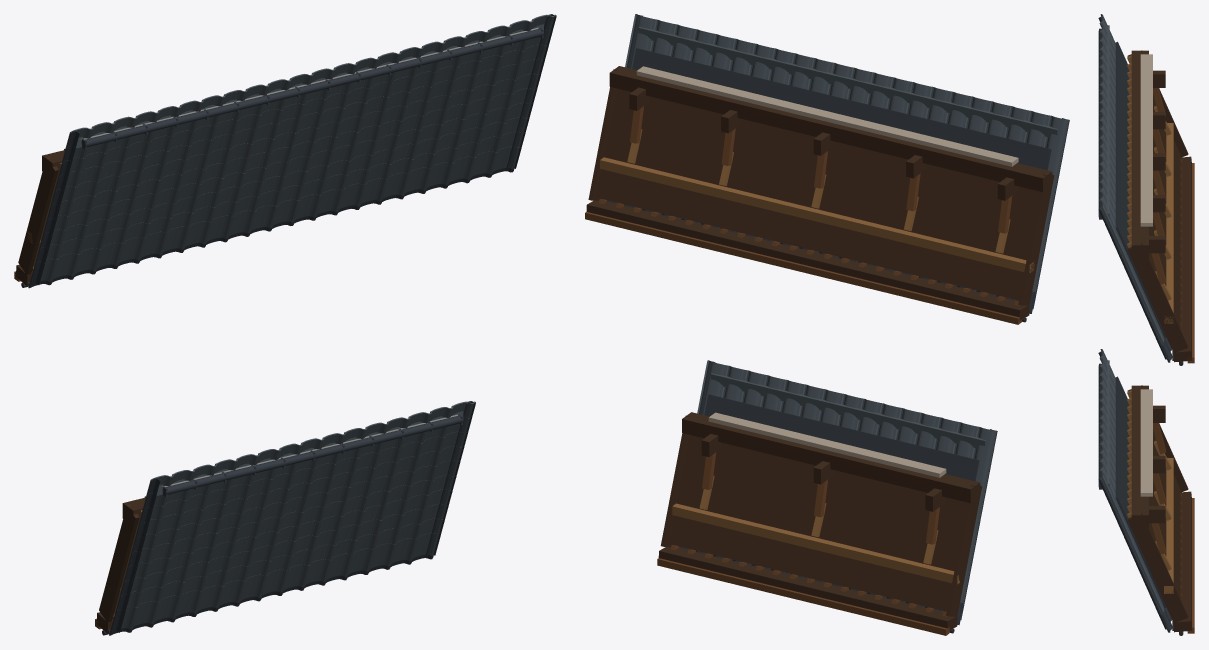
Rendered from ProjectShinrai_RoofEave_v17_Modular.glb.
3 views of the same model, side by side, from view 1: azimuth 30°, elevation 25°; view 2: azimuth 150°, elevation 25°; view 3: azimuth 270°, elevation 25° (orthographic). The views are drawn at different scales.
Visible parts, largest first — view 1: RoofEave_6m_Kawara, RoofEave_4m_Kawara, RoofEave_6m_KawaraDark, RoofEave_4m_KawaraDark, RoofEave_4m_TimberDark, RoofEave_6m_TimberDark, RoofEave_6m_Mortar; view 2: RoofEave_6m_TimberDark, RoofEave_4m_TimberDark, RoofEave_6m_Kawara, RoofEave_4m_Kawara, RoofEave_6m_KawaraDark, RoofEave_6m_Rafters, RoofEave_6m_Timber, RoofEave_4m_KawaraDark, RoofEave_4m_Rafters, RoofEave_6m_PlasterBacking, RoofEave_4m_Timber, RoofEave_4m_PlasterBacking; view 3: RoofEave_6m_TimberDark, RoofEave_4m_TimberDark, RoofEave_6m_KawaraDark, RoofEave_6m_Kawara, RoofEave_4m_KawaraDark, RoofEave_4m_Kawara, RoofEave_6m_Rafters, RoofEave_6m_PlasterBacking, RoofEave_6m_Timber, RoofEave_4m_Rafters, RoofEave_4m_PlasterBacking, RoofEave_4m_Timber.
Boxes of the visible parts, x1,y1,x2,y2 form: RoofEave_6m_Kawara: [32, 14, 555, 281]; RoofEave_4m_Kawara: [111, 401, 474, 629]; RoofEave_6m_KawaraDark: [27, 14, 556, 288]; RoofEave_4m_KawaraDark: [108, 401, 475, 635]; RoofEave_4m_TimberDark: [96, 496, 145, 633]; RoofEave_6m_TimberDark: [16, 149, 65, 286]; RoofEave_6m_Mortar: [81, 27, 539, 145]; RoofEave_6m_TimberDark: [586, 66, 1054, 320]; RoofEave_4m_TimberDark: [658, 412, 982, 630]; RoofEave_6m_Kawara: [625, 14, 1068, 308]; RoofEave_4m_Kawara: [697, 360, 996, 620]; RoofEave_6m_KawaraDark: [600, 14, 1069, 313]; RoofEave_6m_Rafters: [600, 129, 1034, 272]; RoofEave_6m_Timber: [585, 106, 1021, 324]; RoofEave_4m_KawaraDark: [673, 360, 997, 625]; RoofEave_4m_Rafters: [672, 475, 959, 584]; RoofEave_6m_PlasterBacking: [636, 66, 1018, 166]; RoofEave_4m_Timber: [657, 452, 949, 635]; RoofEave_4m_PlasterBacking: [708, 412, 946, 477]; RoofEave_6m_TimberDark: [1127, 50, 1192, 362]; RoofEave_4m_TimberDark: [1127, 385, 1191, 632]; RoofEave_6m_KawaraDark: [1098, 14, 1173, 362]; RoofEave_6m_Kawara: [1099, 15, 1168, 358]; RoofEave_4m_KawaraDark: [1098, 349, 1173, 632]; RoofEave_4m_Kawara: [1099, 349, 1168, 628]; RoofEave_6m_Rafters: [1127, 55, 1173, 323]; RoofEave_6m_PlasterBacking: [1140, 54, 1152, 226]; RoofEave_6m_Timber: [1151, 88, 1194, 363]; RoofEave_4m_Rafters: [1127, 390, 1173, 593]; RoofEave_4m_PlasterBacking: [1140, 389, 1152, 496]; RoofEave_4m_Timber: [1151, 423, 1194, 633].
Size of what is drawn, in the model's own units: 6.01 by 6.62 by 1.25.
